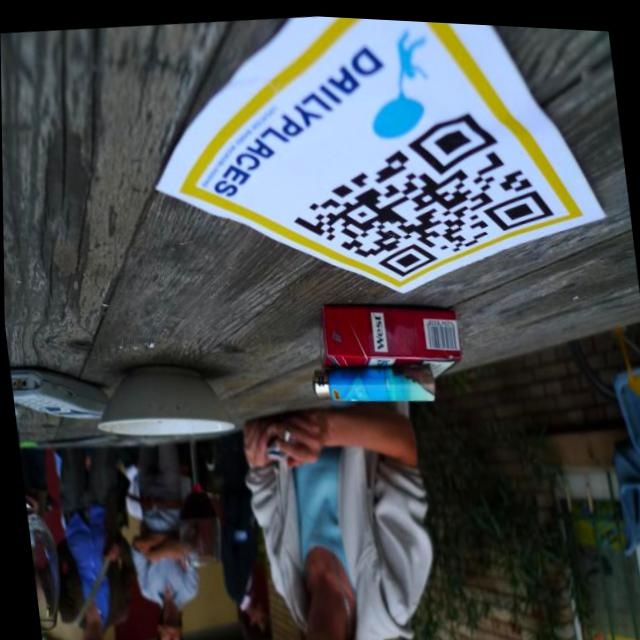qrcode: (280, 92, 559, 289)
